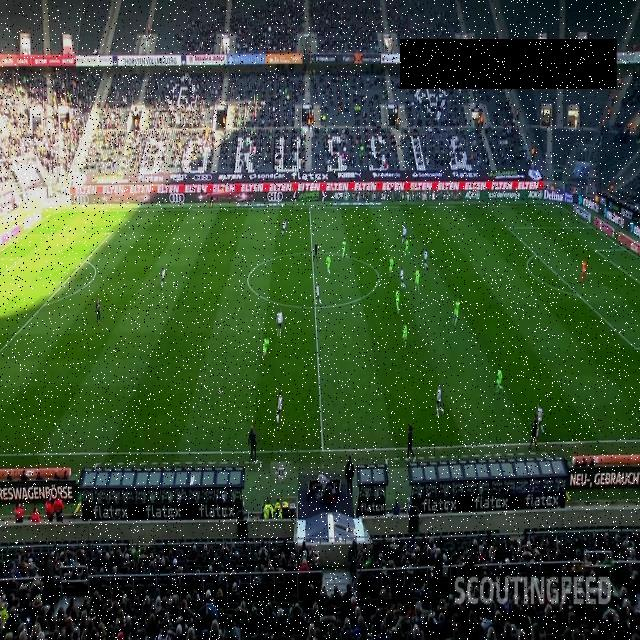Ball: (218, 388, 222, 396)
Corner: (558, 180, 563, 208)
GoalKeeper: (579, 258, 587, 282), (96, 297, 100, 323)
Referee: (528, 416, 538, 450), (313, 241, 319, 263), (210, 192, 213, 208)
TEAM 1: (436, 383, 444, 417), (275, 390, 283, 424), (537, 402, 545, 434), (276, 308, 284, 338), (315, 282, 323, 306), (279, 217, 287, 239), (160, 266, 166, 290), (400, 266, 406, 288), (423, 248, 429, 270), (402, 224, 408, 246)
TEAM 2: (261, 334, 270, 360), (452, 298, 460, 326), (414, 268, 421, 292), (402, 322, 408, 348), (496, 366, 502, 392), (402, 238, 410, 257), (326, 253, 332, 275), (388, 255, 394, 277), (396, 288, 400, 314), (342, 238, 346, 258)
